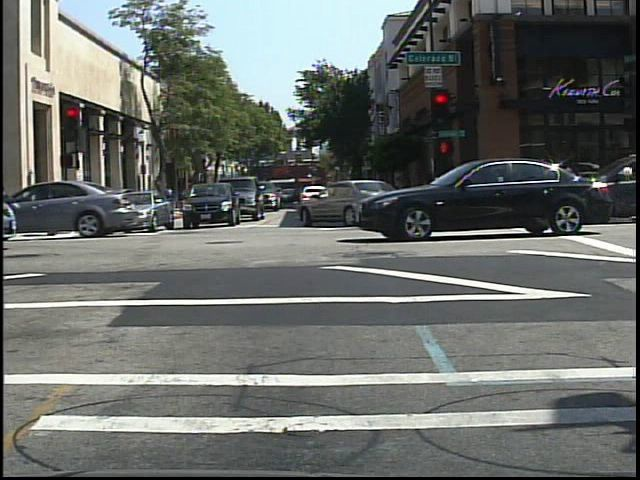person: (618, 151, 639, 220), (160, 180, 178, 219)
